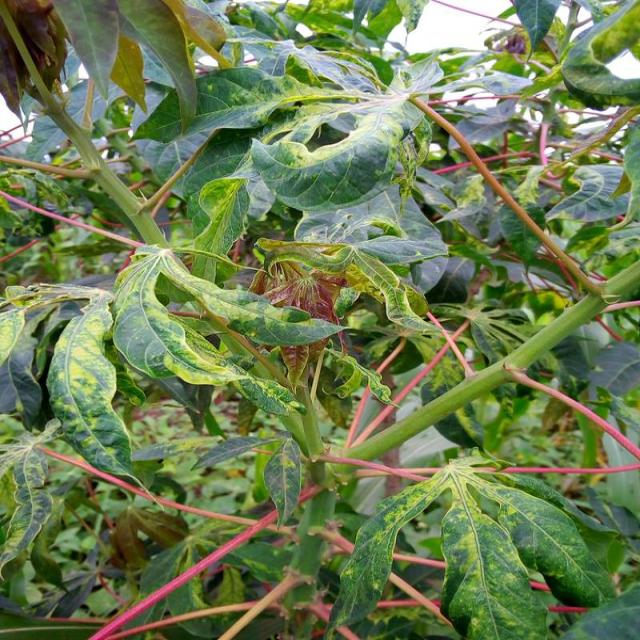cassava leaf: (0, 0, 638, 637), (324, 448, 618, 638), (44, 290, 138, 481)
